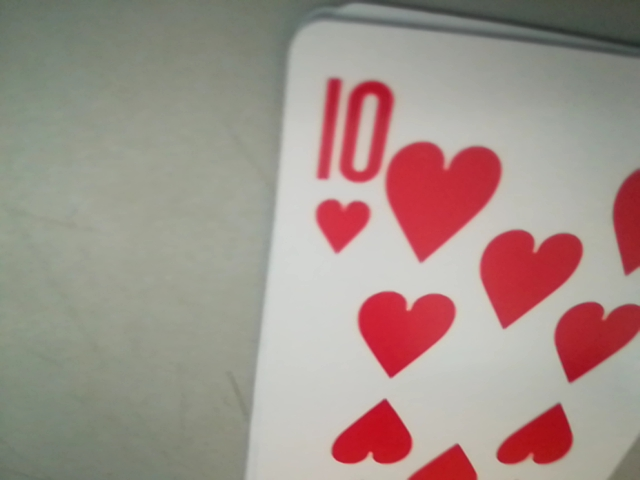hx 10: (311, 76, 393, 258)
